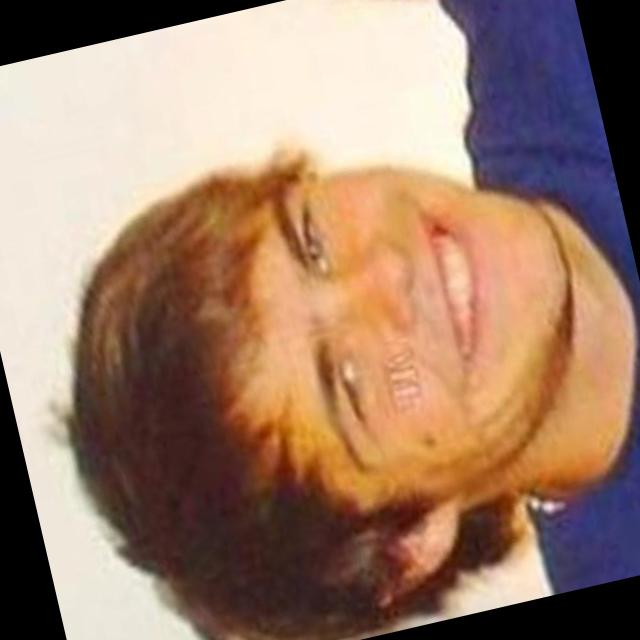bareface: (137, 108, 590, 538)
